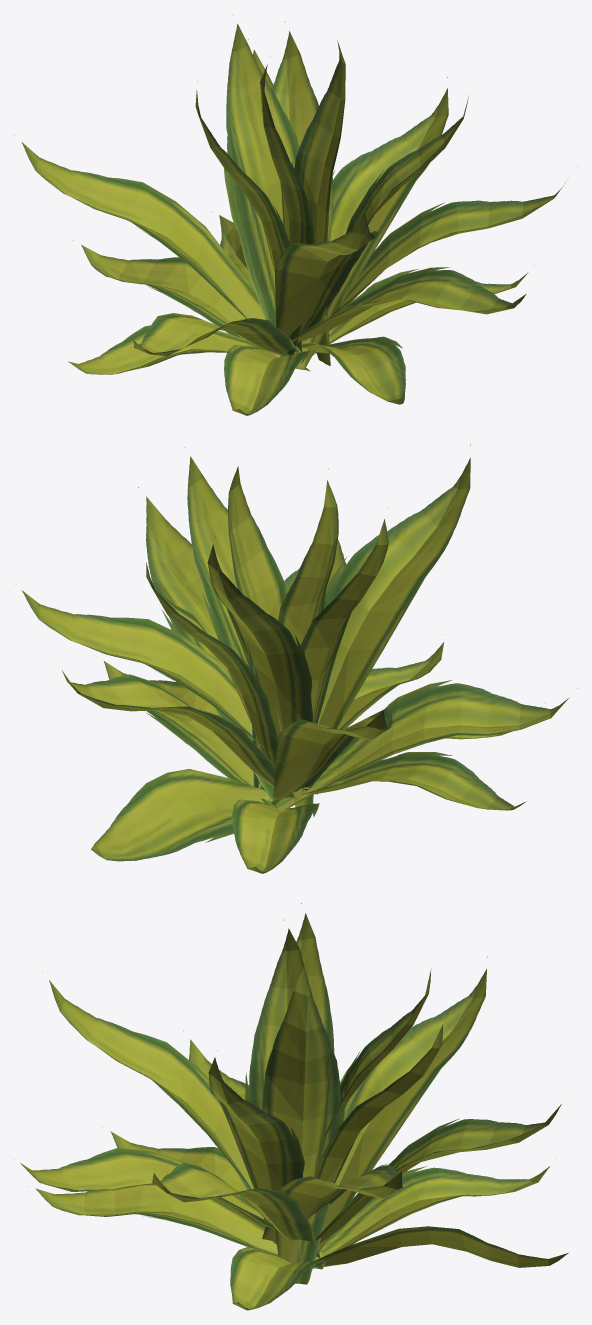
Rendered from Agave-2.fbx.
3 renders of one model, top to bottom at view 1: azimuth 30°, elevation 25°; view 2: azimuth 150°, elevation 25°; view 3: azimuth 270°, elevation 25°, orthographic. The views are drawn at different scales.
Parts seen in each view (by area): view 1: Mesh12 Component_3_12 Group1 Model; view 2: Mesh12 Component_3_12 Group1 Model; view 3: Mesh12 Component_3_12 Group1 Model.
Part boxes in pixels (left/top/right/bottom): Mesh12 Component_3_12 Group1 Model: left=14, top=14, right=577, bottom=415; Mesh12 Component_3_12 Group1 Model: left=14, top=444, right=577, bottom=873; Mesh12 Component_3_12 Group1 Model: left=14, top=903, right=568, bottom=1310.
Bounding box in the file's own units: 69.46 × 49.17 × 73.91.
1 material, 1 textured.
